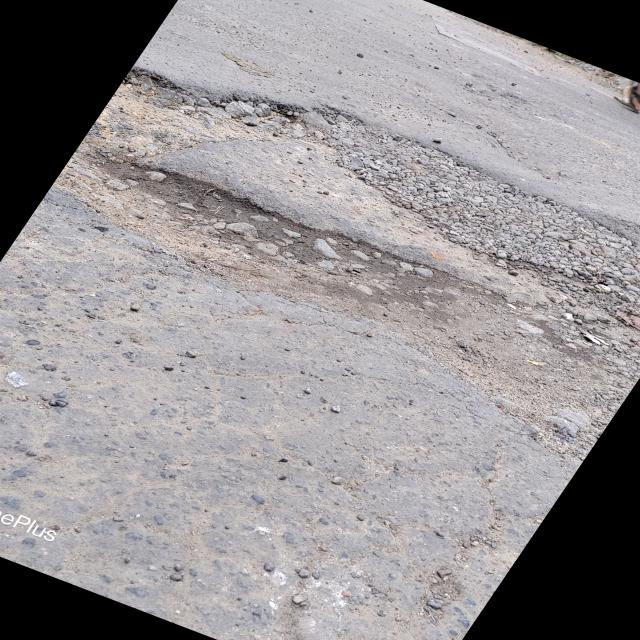potholes: (150, 41, 622, 414)
